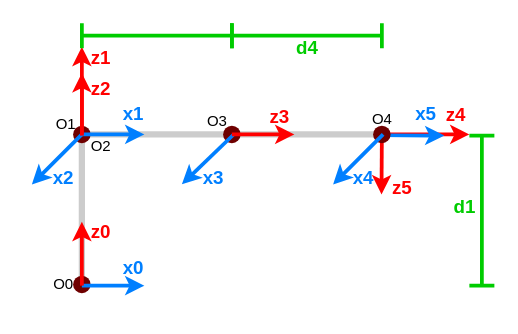
This 518x334 diagram has some shape labels left out. The shapes that lost their labels are listed below. From the top down, each one's box as (x1, y1, x2, y2) in pixels, then its label:
(79, 21, 233, 49): d3
(353, 106, 409, 162): O5
